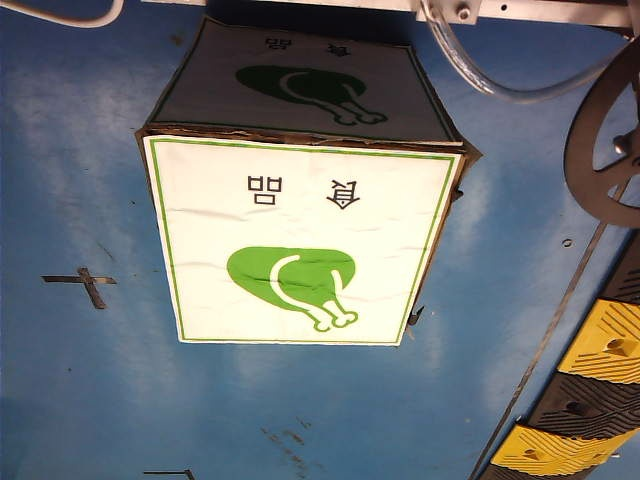Cube_food: (180, 148, 406, 343)
